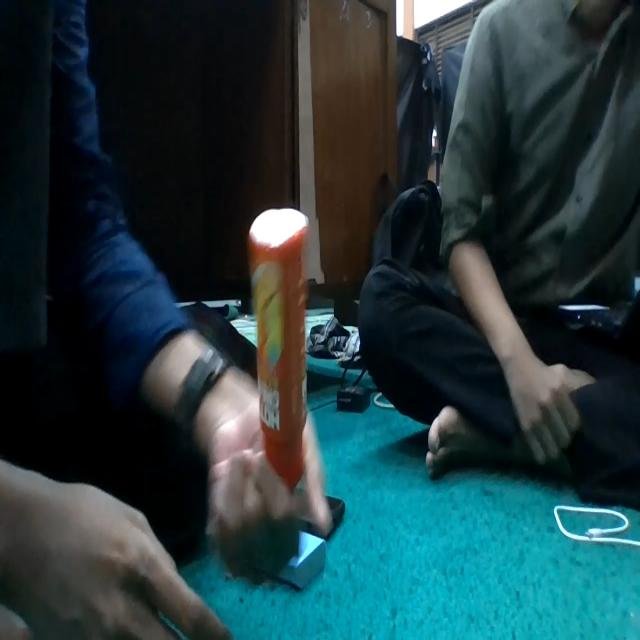Boncabe: (248, 208, 308, 490)
Powerbank: (278, 531, 326, 589)
